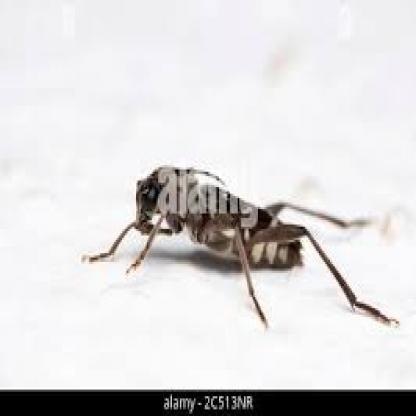sawfly: (77, 160, 408, 334)
